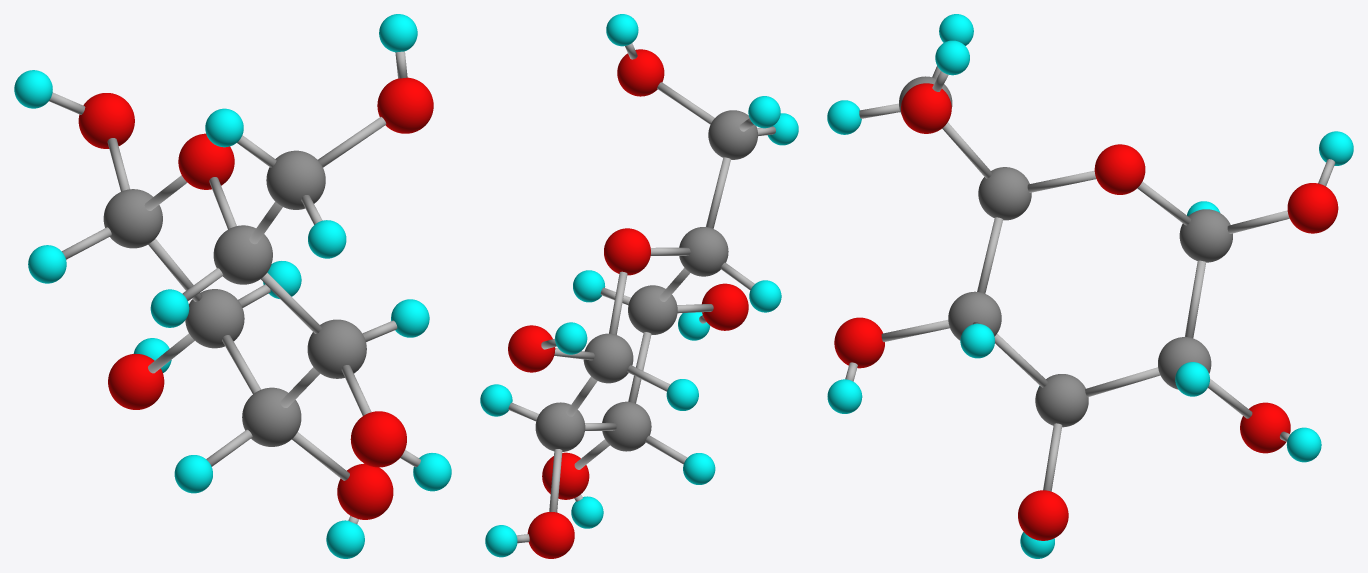
Rendered from β-D-glucose.glb.
The picture shows the model from 3 angles, left to right: view 1: azimuth 30°, elevation 25°; view 2: azimuth 150°, elevation 25°; view 3: azimuth 270°, elevation 25°; orthographic projection. The views are drawn at different scales.
Parts seen in each view (by area): view 1: CMAtom_0; view 2: CMAtom_0; view 3: CMAtom_0.
Boxes of the visible parts, x1,y1,x2,y2 form: CMAtom_0: (14, 14, 451, 558); CMAtom_0: (480, 14, 798, 558); CMAtom_0: (827, 14, 1353, 558).
Size of the model in its own units: 0.2748 by 0.5572 by 0.5136.
